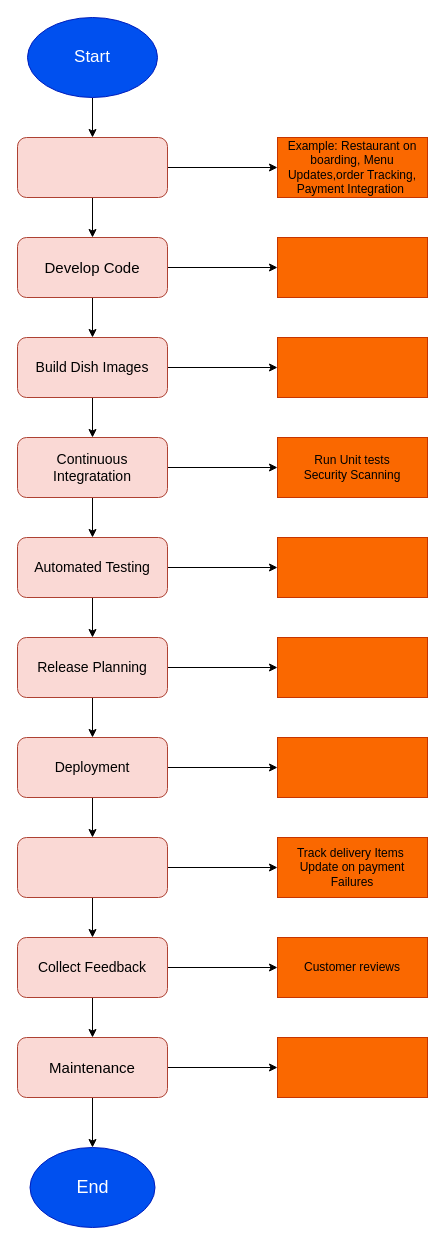
Image size: 445x1245. Some labels were removed from this diagram. The centre of each missing label's shape, as x and y in pixels:
"Dish image Storing: Store Images in Registry" belongs at point 352,367.
"Integration tests Order Placements" belongs at point 352,567.
"Kubemetes Rolling Updates" belongs at point 352,767.
"Operate and Monitor" belongs at point 92,867.
"Plan Features" belongs at point 92,167.
"Services: User Services, Order Services, Payment Services, Delivery Services" belongs at point 352,267.
"Using with QA" belongs at point 352,667.
